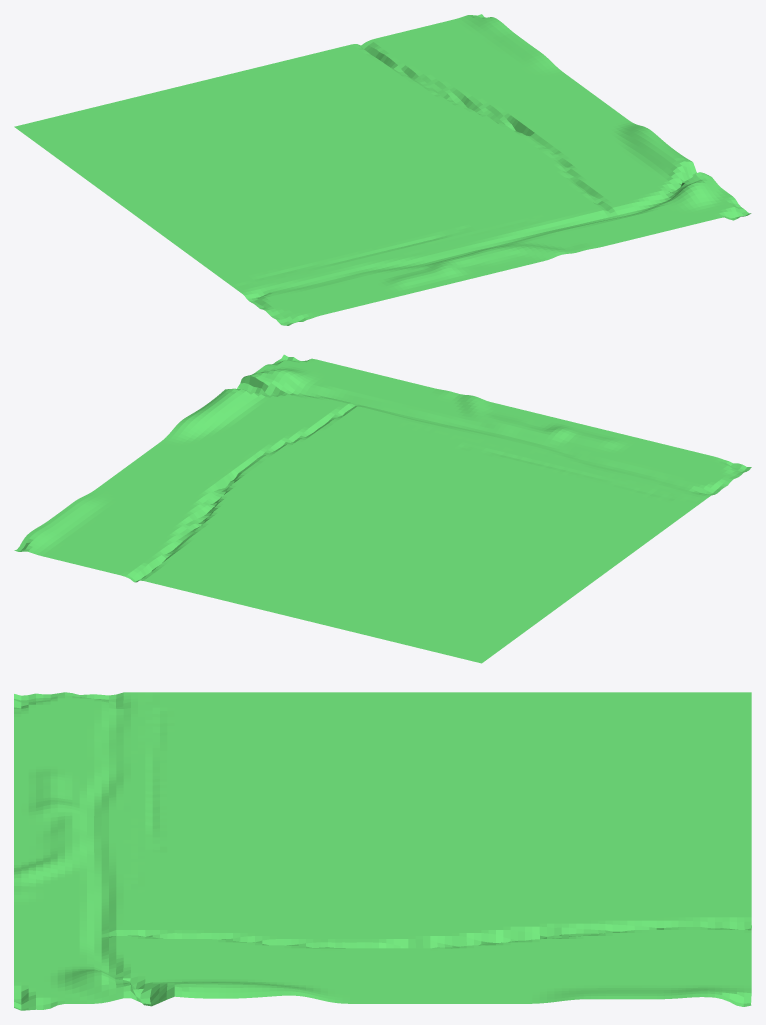
File: ground.glb
The picture shows the model from 3 angles, top to bottom: view 1: azimuth 30°, elevation 25°; view 2: azimuth 150°, elevation 25°; view 3: azimuth 270°, elevation 25°; orthographic projection. The views are drawn at different scales.
Visible parts, largest first — view 1: Plane; view 2: Plane; view 3: Plane.
Boxes of the visible parts, x1,y1,x2,y2 form: Plane: (14,14,751,325); Plane: (14,354,751,663); Plane: (14,692,751,1010).
Size of the model in its own units: 39.37 by 1.35 by 39.4.
